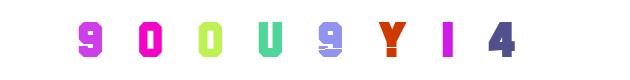0: (167, 0, 247, 80)
4: (462, 0, 542, 80)
9: (110, 0, 190, 80), (278, 0, 358, 80)
I: (352, 0, 432, 80)
O: (179, 0, 259, 80)
U: (230, 0, 310, 80)
Y: (299, 0, 379, 80)
